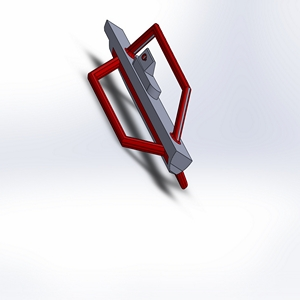submarine: (71, 15, 222, 210)
